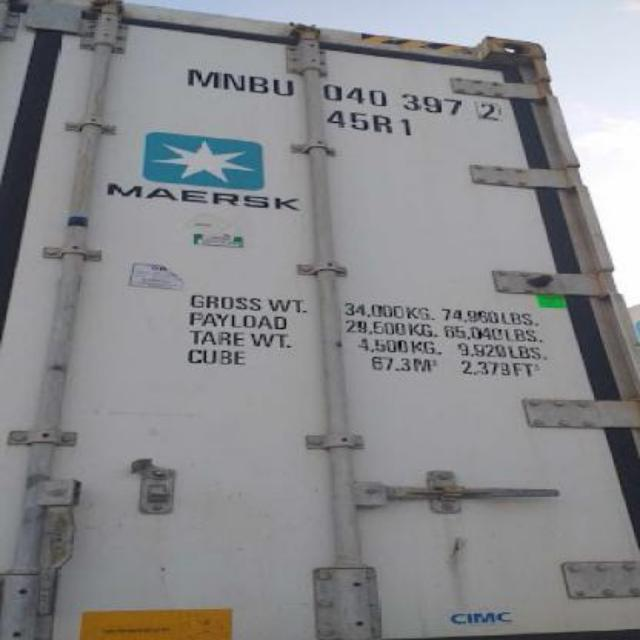0: (362, 80, 388, 110), (318, 76, 344, 102)
2: (472, 95, 506, 121)
3: (396, 85, 422, 111)
4: (342, 73, 366, 105)
7: (441, 87, 462, 117)
9: (421, 85, 442, 117)
B: (248, 67, 270, 96)
M: (184, 59, 220, 91)
N: (220, 63, 248, 95)
U: (268, 65, 300, 98)
